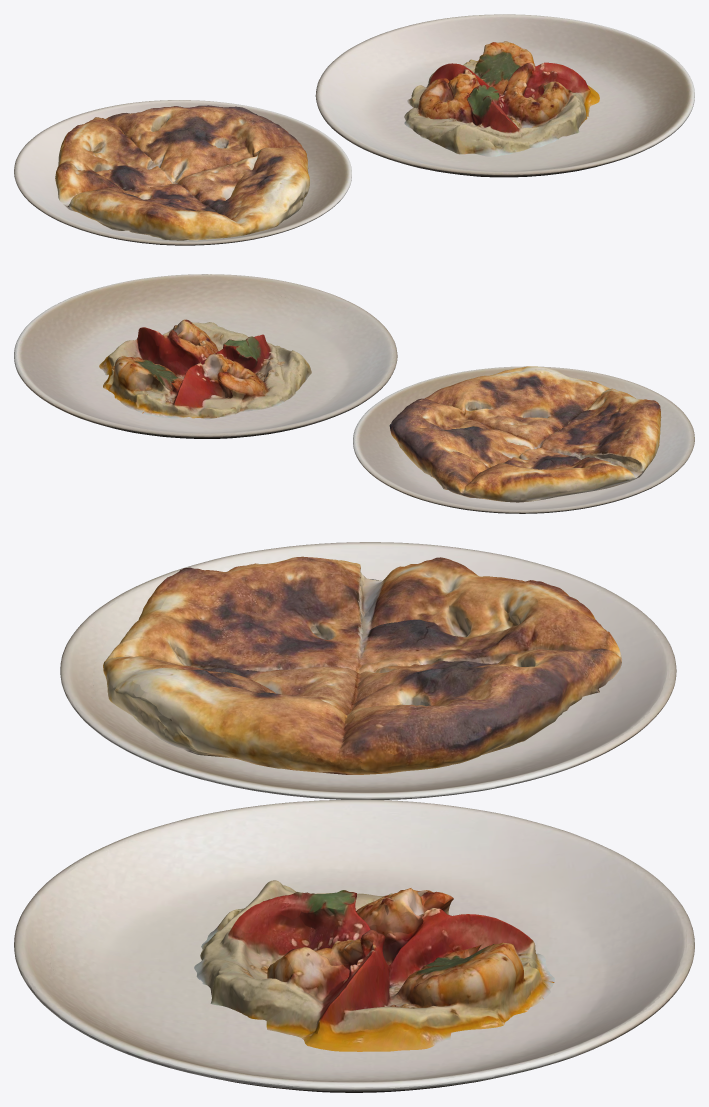
The model's file is shakshuka001.glb.
3 views of the same model, one above another, from view 1: azimuth 30°, elevation 25°; view 2: azimuth 150°, elevation 25°; view 3: azimuth 270°, elevation 25° (orthographic). The views are drawn at different scales.
Visible parts, largest first — view 1: /Root/Scenes/Scene/Object_37/Object_39/Object_40/Submesh_0, /Root/Scenes/Scene/Object_37/Object_44/Submesh_0, /Root/Scenes/Scene/Object_37/Object_38/Submesh_0, /Root/Scenes/Scene/Object_37/Object_47/Object_48/Submesh_0; view 2: /Root/Scenes/Scene/Object_37/Object_39/Object_40/Submesh_0, /Root/Scenes/Scene/Object_37/Object_44/Submesh_0, /Root/Scenes/Scene/Object_37/Object_38/Submesh_0, /Root/Scenes/Scene/Object_37/Object_47/Object_48/Submesh_0; view 3: /Root/Scenes/Scene/Object_37/Object_39/Object_40/Submesh_0, /Root/Scenes/Scene/Object_37/Object_44/Submesh_0, /Root/Scenes/Scene/Object_37/Object_38/Submesh_0, /Root/Scenes/Scene/Object_37/Object_47/Object_48/Submesh_0.
Boxes of the visible parts, box(x1,y1,x2,y2) form: /Root/Scenes/Scene/Object_37/Object_39/Object_40/Submesh_0: box(315, 14, 694, 177); /Root/Scenes/Scene/Object_37/Object_44/Submesh_0: box(55, 105, 309, 240); /Root/Scenes/Scene/Object_37/Object_38/Submesh_0: box(404, 41, 599, 156); /Root/Scenes/Scene/Object_37/Object_47/Object_48/Submesh_0: box(14, 100, 351, 245); /Root/Scenes/Scene/Object_37/Object_39/Object_40/Submesh_0: box(14, 274, 397, 438); /Root/Scenes/Scene/Object_37/Object_44/Submesh_0: box(389, 366, 661, 502); /Root/Scenes/Scene/Object_37/Object_38/Submesh_0: box(99, 319, 311, 419); /Root/Scenes/Scene/Object_37/Object_47/Object_48/Submesh_0: box(353, 366, 694, 513); /Root/Scenes/Scene/Object_37/Object_39/Object_40/Submesh_0: box(14, 799, 694, 1092); /Root/Scenes/Scene/Object_37/Object_44/Submesh_0: box(103, 556, 621, 774); /Root/Scenes/Scene/Object_37/Object_38/Submesh_0: box(194, 880, 554, 1051); /Root/Scenes/Scene/Object_37/Object_47/Object_48/Submesh_0: box(60, 542, 676, 799).
Bounding box in the file's own units: 0.3645 × 0.0249 × 0.1906.
Materials: 4 (4 with a texture image).
